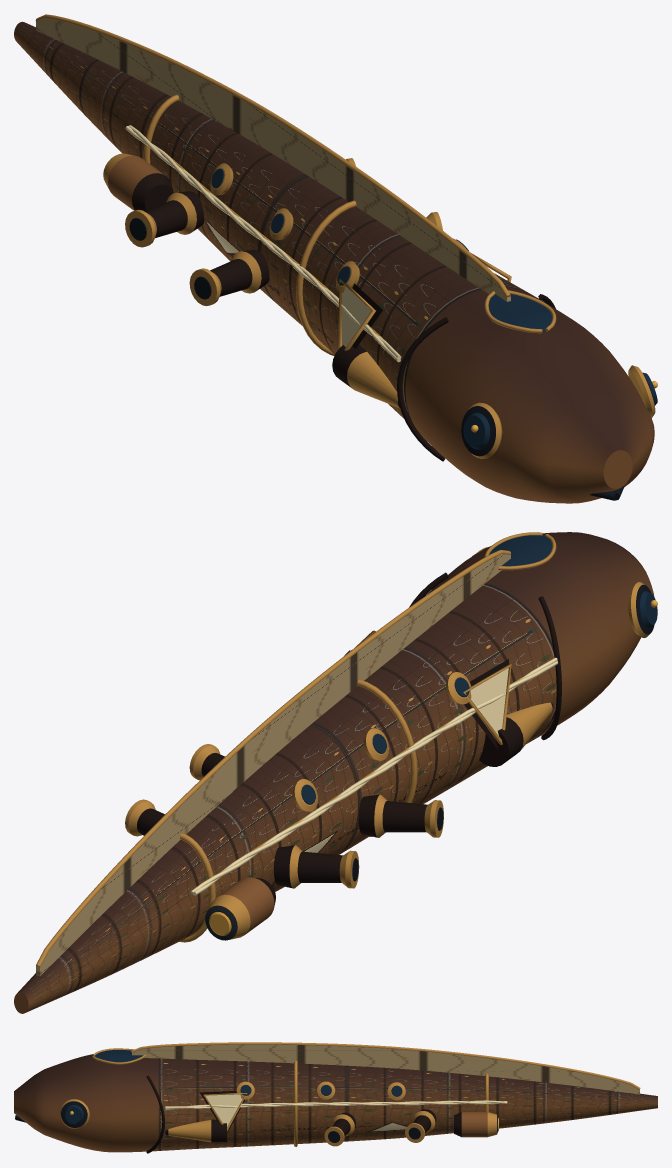
3 views of the same model, one above another, from view 1: azimuth 30°, elevation 25°; view 2: azimuth 150°, elevation 25°; view 3: azimuth 270°, elevation 25° (orthographic). The views are drawn at different scales.
Parts seen in each view (by area): view 1: moray_hull; view 2: moray_hull; view 3: moray_hull.
Boxes of the visible parts, x1,y1,x2,y2 form: moray_hull: (14,14,657,503); moray_hull: (14,532,657,1013); moray_hull: (14,1042,657,1153).
Bounding box in the file's own units: 14.25 × 10.8 × 60.
Materials: 1 (1 with a texture image).
